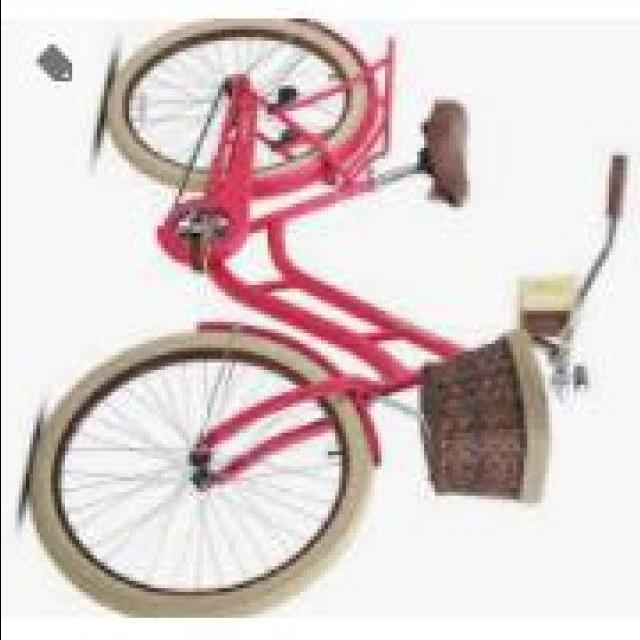bicycle: (16, 42, 588, 608)
